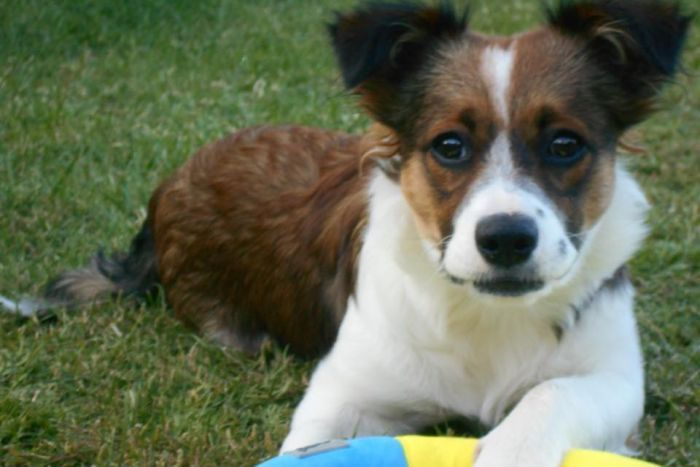dog: (128, 20, 664, 451)
